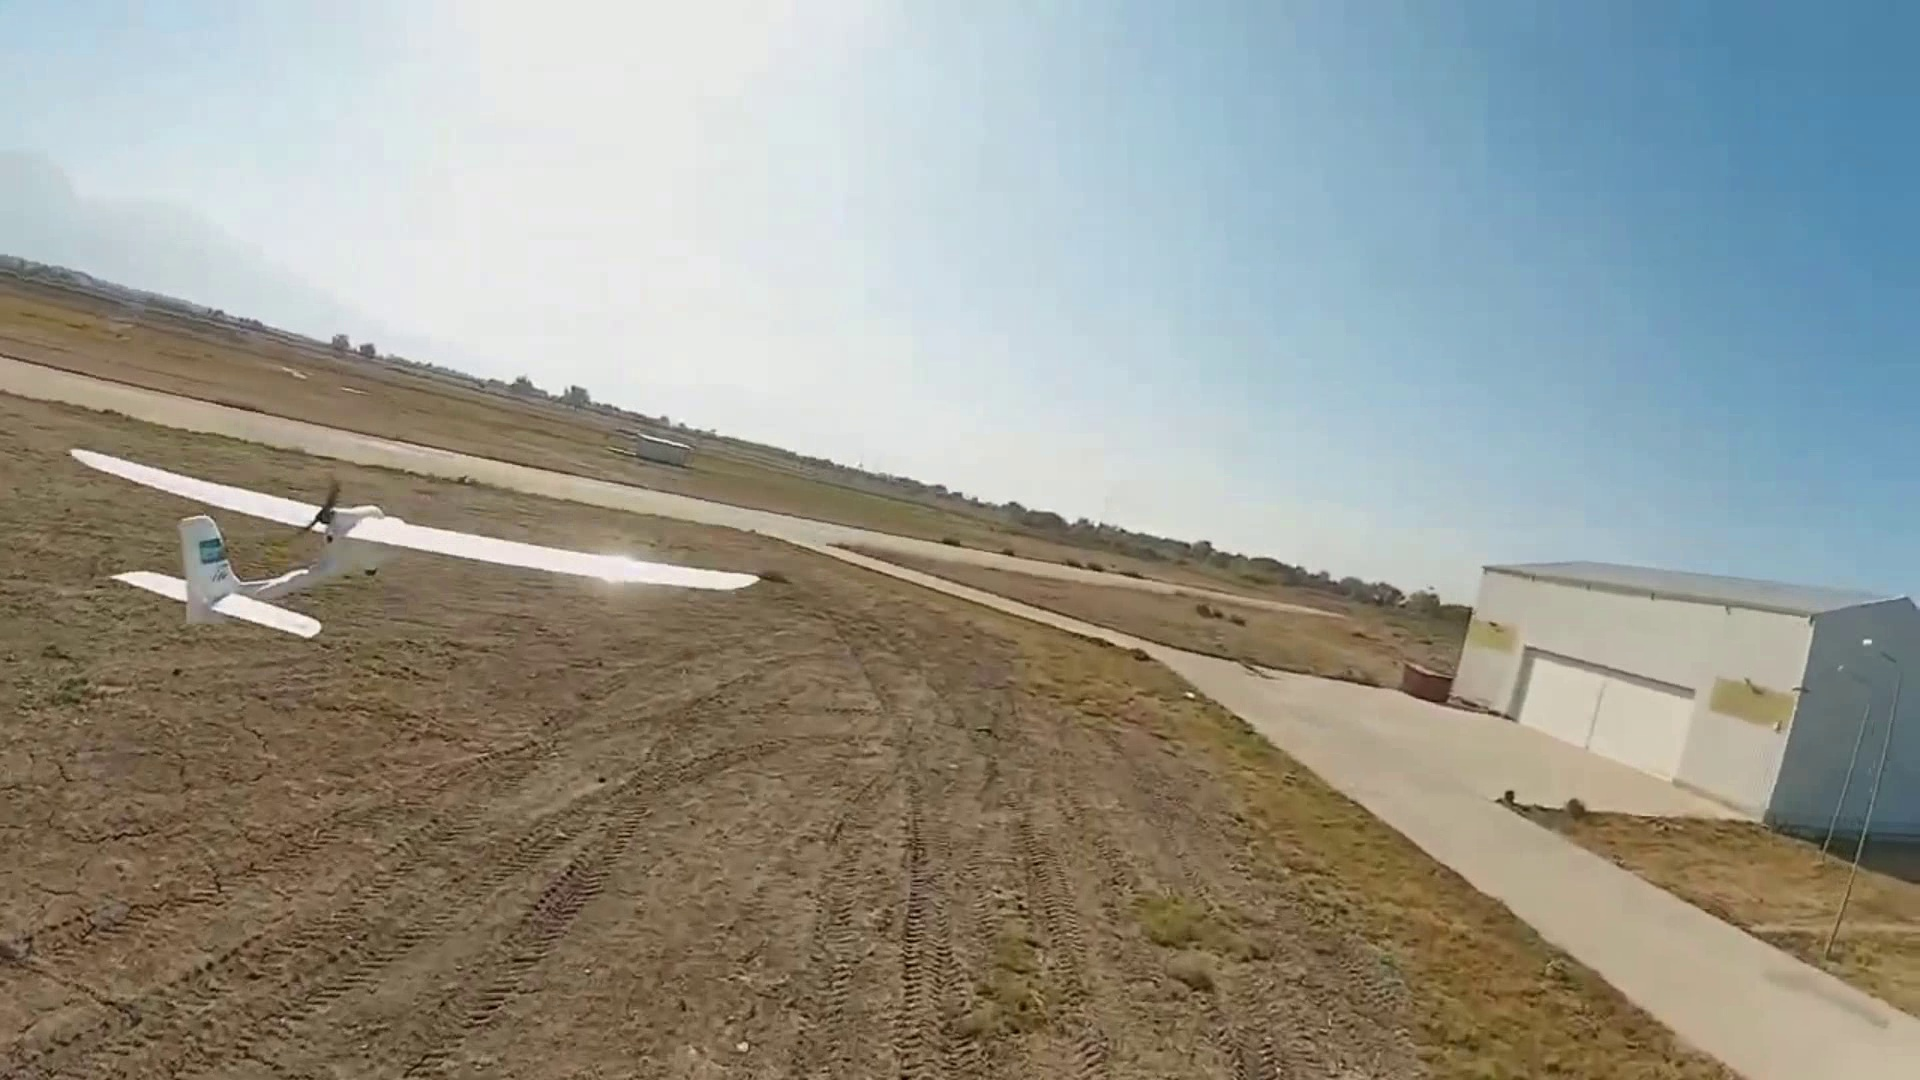airplane: (61, 446, 760, 642)
